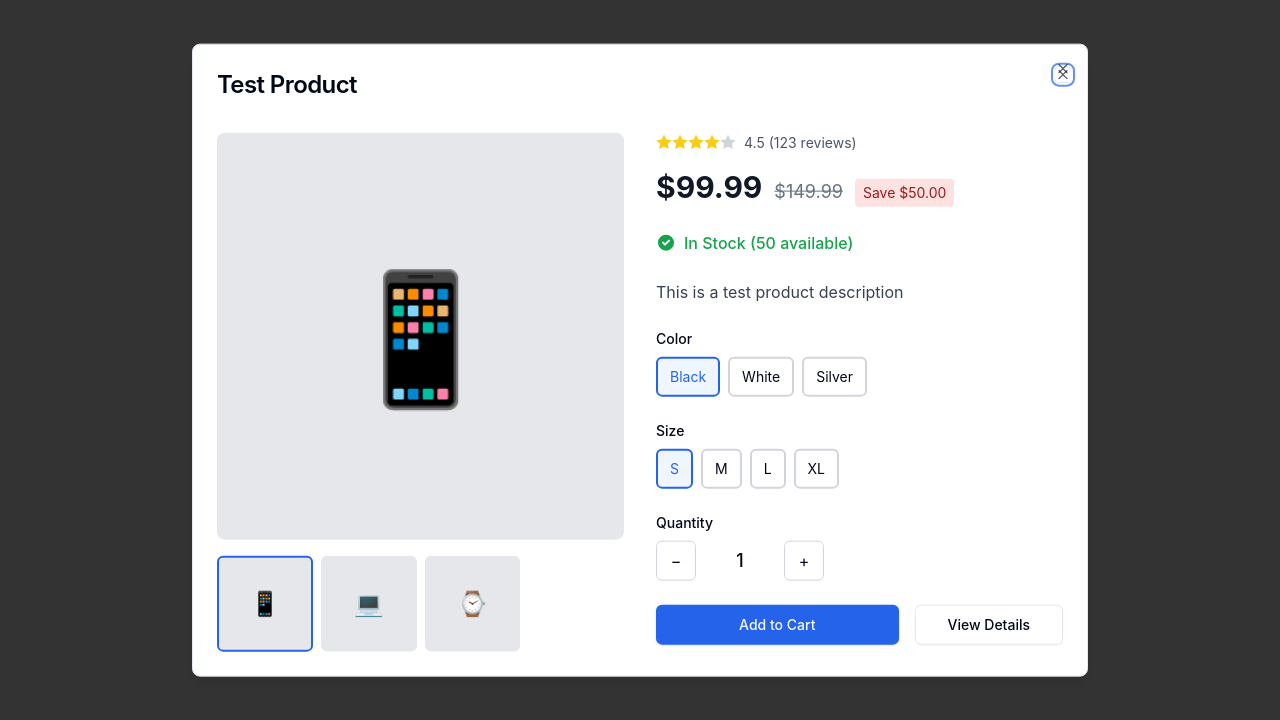
Test: ProductQuickView › should decrease quantity when - button is clicked
The image size is (1280, 720).
Increase to 2
Click the button with test id "increase-quantity": {"x": 804, "y": 561} [784,541,824,581]
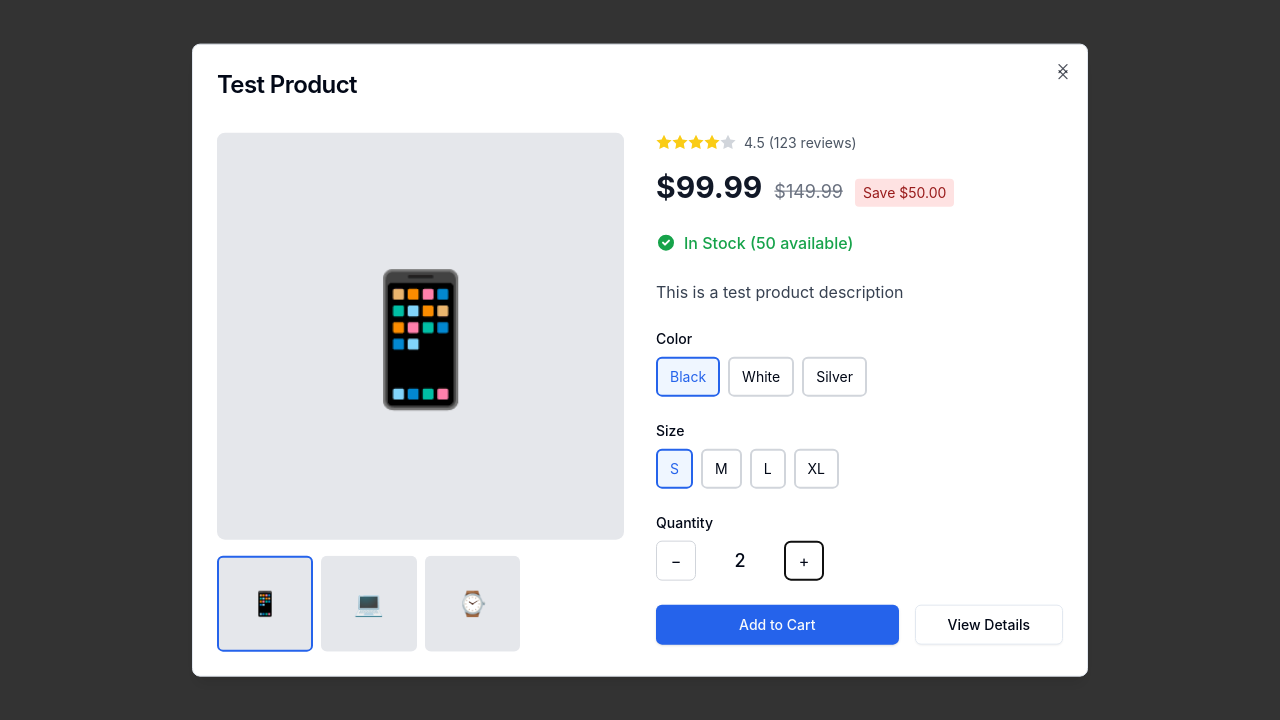
Expected: the text with test id "quantity-display" reads "2", [734,550,746,571]
Decrease back to 1
Click the button with test id "decrease-quantity": {"x": 676, "y": 561} [656,541,696,581]
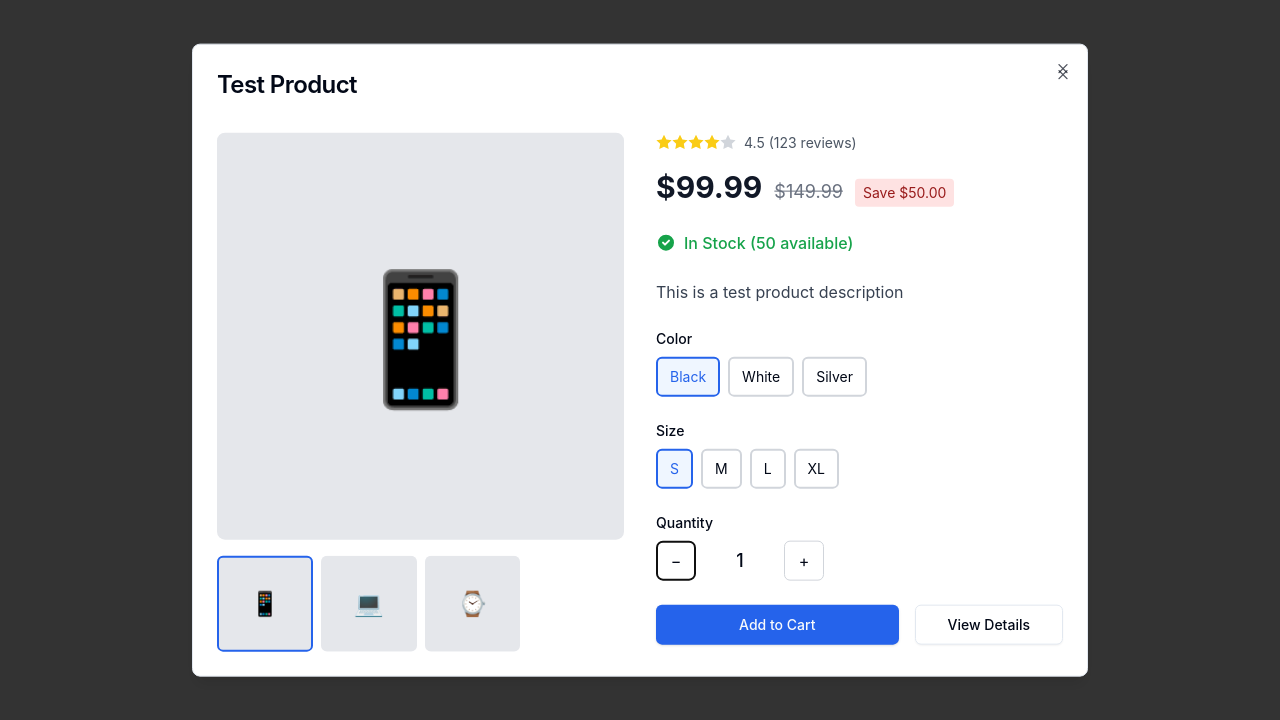
Expected: the text with test id "quantity-display" reads "1", [736,550,744,571]
